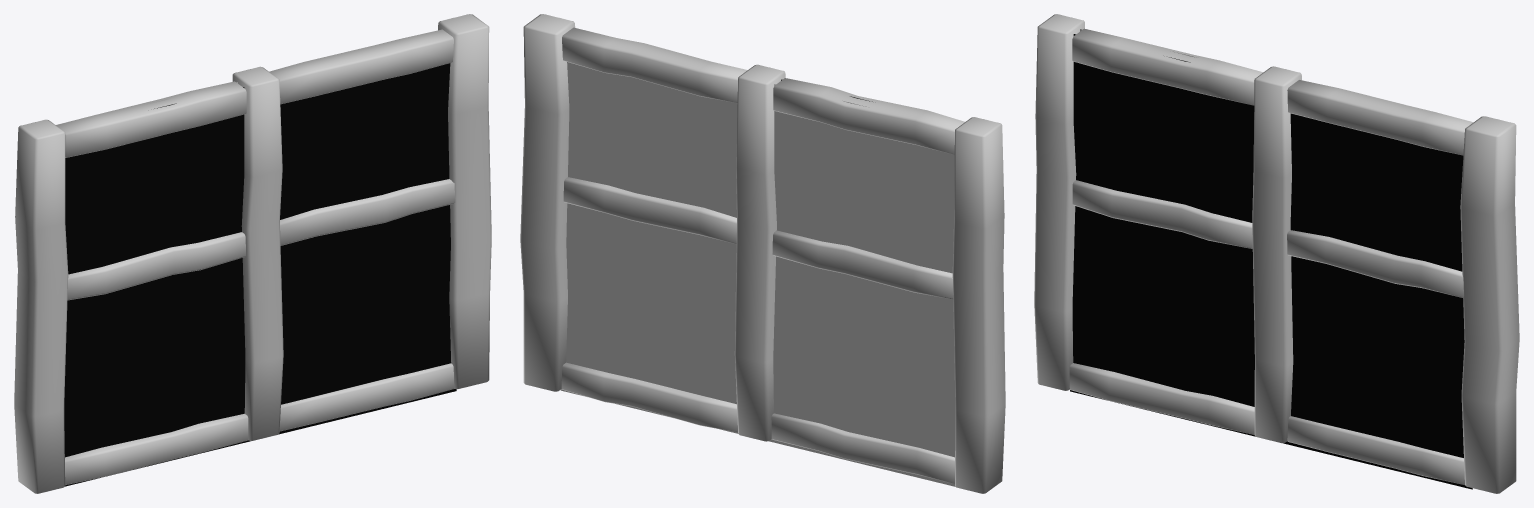
Rendered from log_tunnel_01_l_seethrough.dae.
3 renders of one model, left to right at view 1: azimuth 30°, elevation 25°; view 2: azimuth 150°, elevation 25°; view 3: azimuth 330°, elevation 25°, orthographic.
Visible parts, largest first — view 1: mud, scaffolding__2_; view 2: woodweave, scaffolding__2_; view 3: mud, scaffolding__2_.
Part boxes in pixels (left/top/right/bottom): mud: left=64, top=63, right=456, bottom=486; scaffolding__2_: left=14, top=14, right=491, bottom=493; woodweave: left=560, top=62, right=955, bottom=486; scaffolding__2_: left=520, top=14, right=1005, bottom=493; mud: left=1070, top=34, right=1472, bottom=489; scaffolding__2_: left=1034, top=14, right=1519, bottom=493.
Size of the model in its own units: 5.6 by 4.17 by 0.4625.
